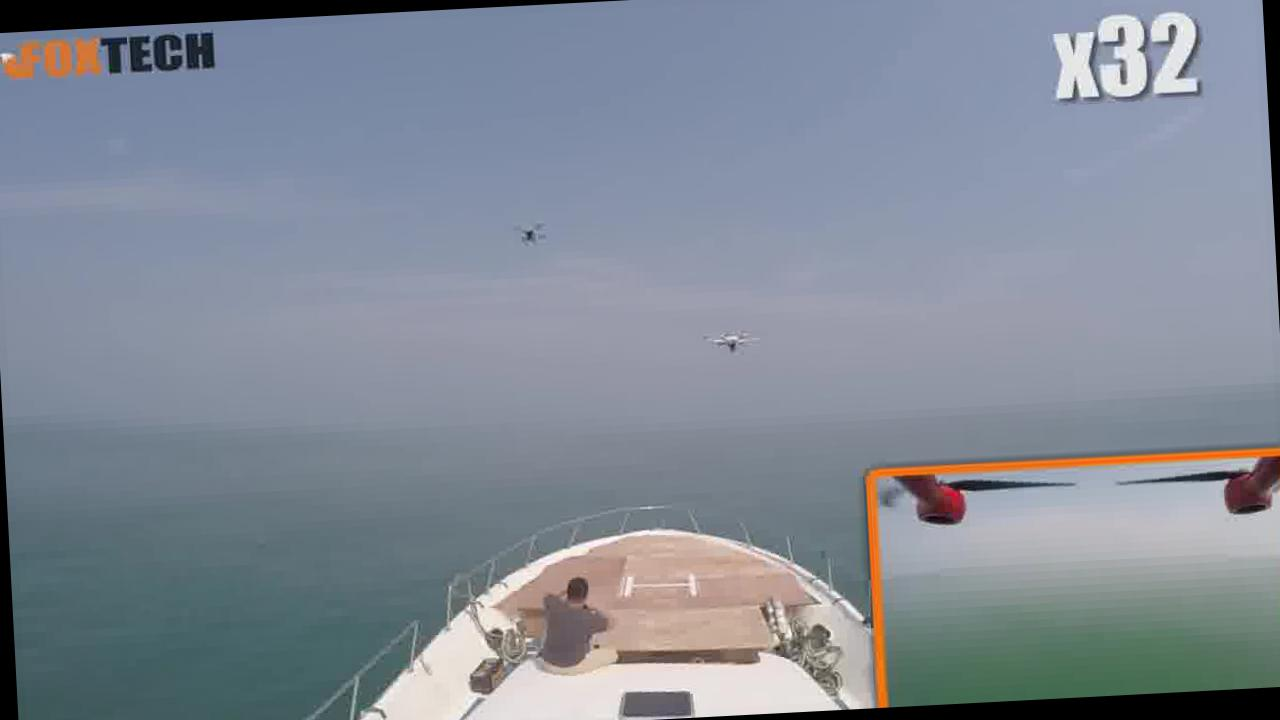drone: (690, 314, 756, 368), (504, 205, 555, 250)
